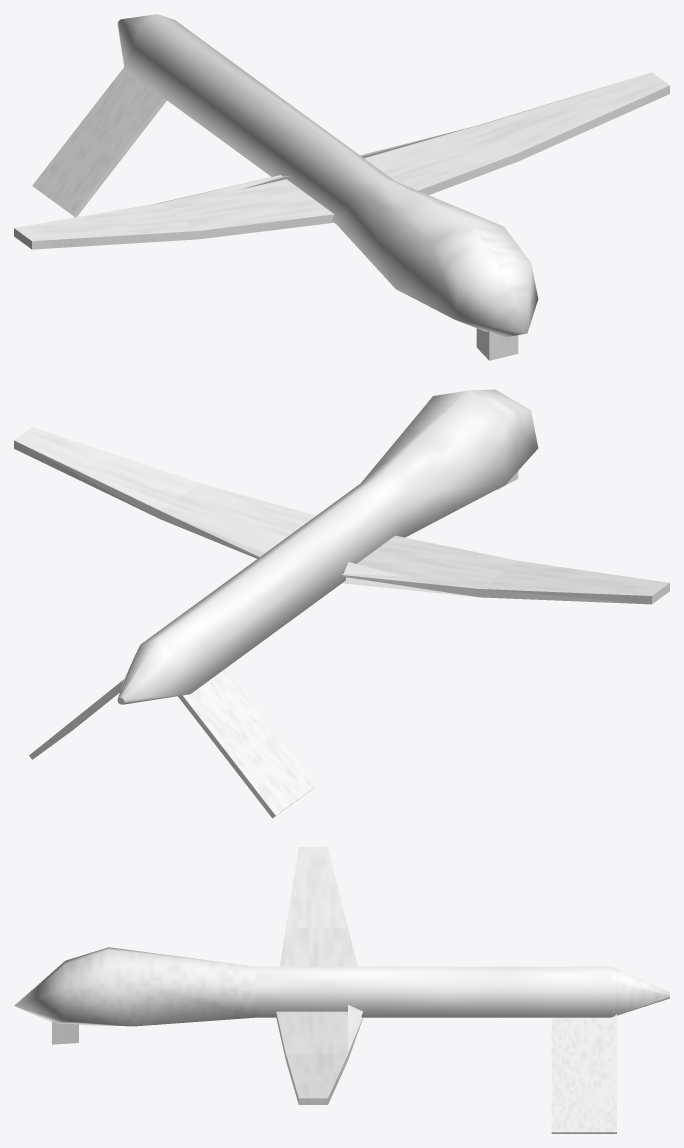
Rendered from UAV.DAE.
The picture shows the model from 3 angles, top to bottom: view 1: azimuth 30°, elevation 25°; view 2: azimuth 150°, elevation 25°; view 3: azimuth 270°, elevation 25°; orthographic projection. The views are drawn at different scales.
Parts seen in each view (by area): view 1: UAV; view 2: UAV; view 3: UAV.
Boxes of the visible parts, x1=… form: UAV: x1=14, y1=14, x2=669, y2=360; UAV: x1=14, y1=389, x2=669, y2=818; UAV: x1=14, y1=847, x2=669, y2=1133.
Size of the model in its own units: 2343 by 592 by 2585.
Materials: 1 (1 with a texture image).
